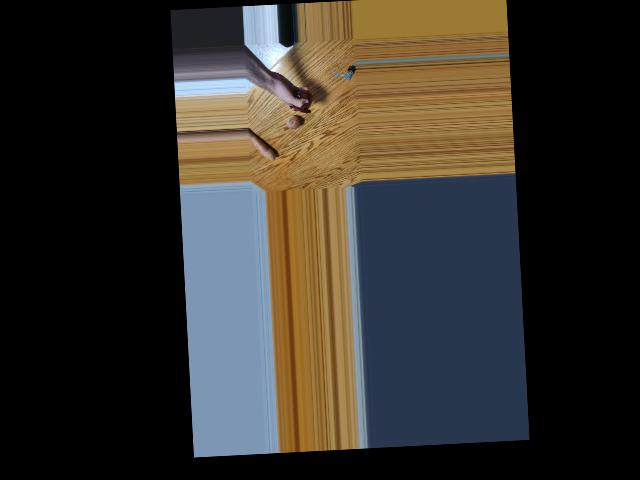onion: (286, 113, 301, 130)
